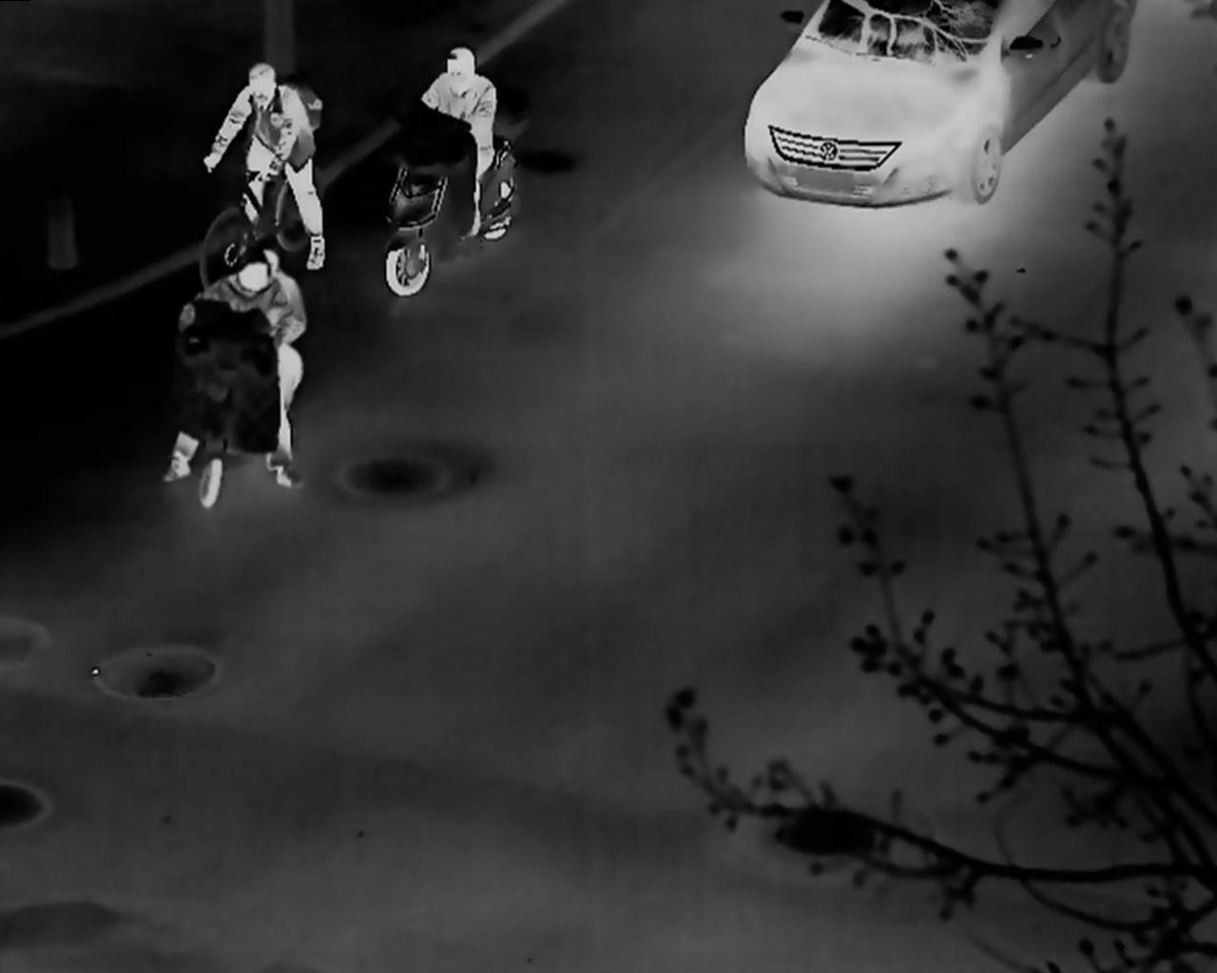person: (167, 246, 305, 485), (203, 62, 328, 271), (416, 42, 499, 244), (199, 242, 291, 341)
